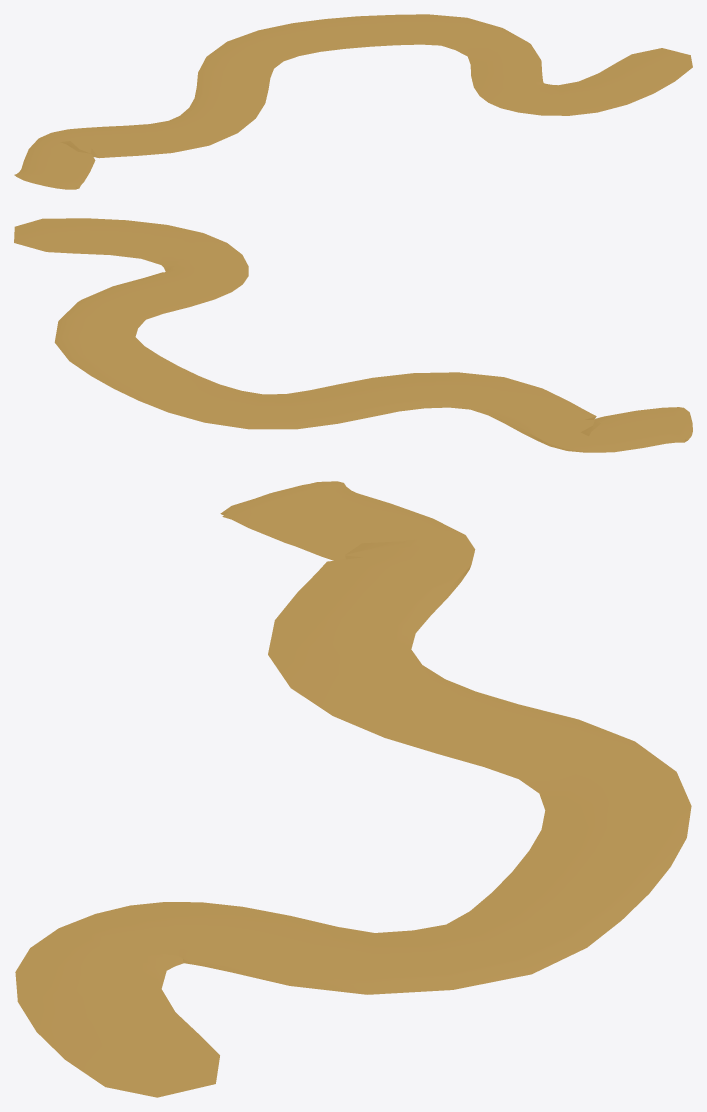
Rendered from road_02.fbx.
3 views of the same model, one above another, from view 1: azimuth 30°, elevation 25°; view 2: azimuth 150°, elevation 25°; view 3: azimuth 270°, elevation 25° (orthographic). The views are drawn at different scales.
Parts seen in each view (by area): view 1: Sweep_remesh; view 2: Sweep_remesh; view 3: Sweep_remesh.
Part boxes in pixels (x1,y1,x2,y2): Sweep_remesh: (14, 14, 692, 189); Sweep_remesh: (14, 218, 692, 452); Sweep_remesh: (15, 481, 691, 1097).
Size of the model in its own units: 44686 by 457 by 20743.
